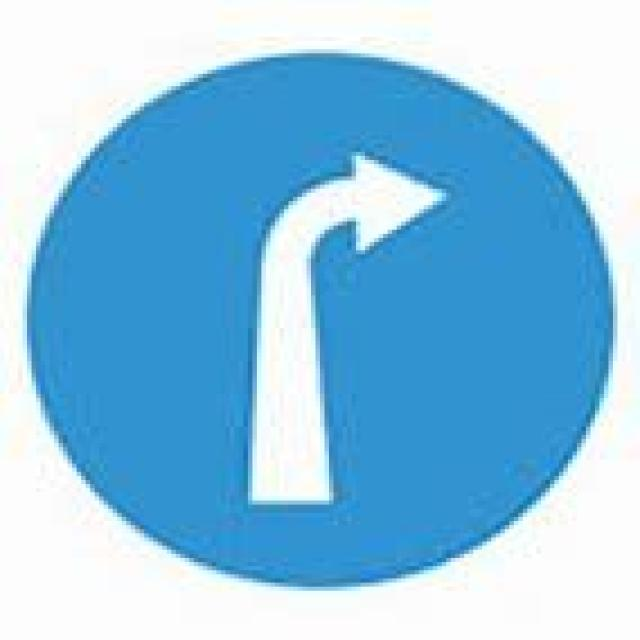COMPULSARY_TURN_RIGHT_AHEAD: (22, 52, 615, 589)
